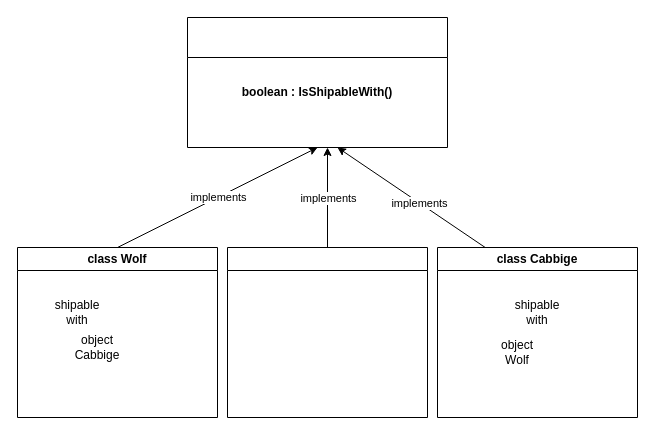
Image size: 655x435. Some labels were removed from this diagram. Here are the shapes that lost their labels. From the top down, the box of each, then its label:
(186, 16, 448, 148): << INTERFACE >> Shipable
(226, 246, 428, 418): class Goat
